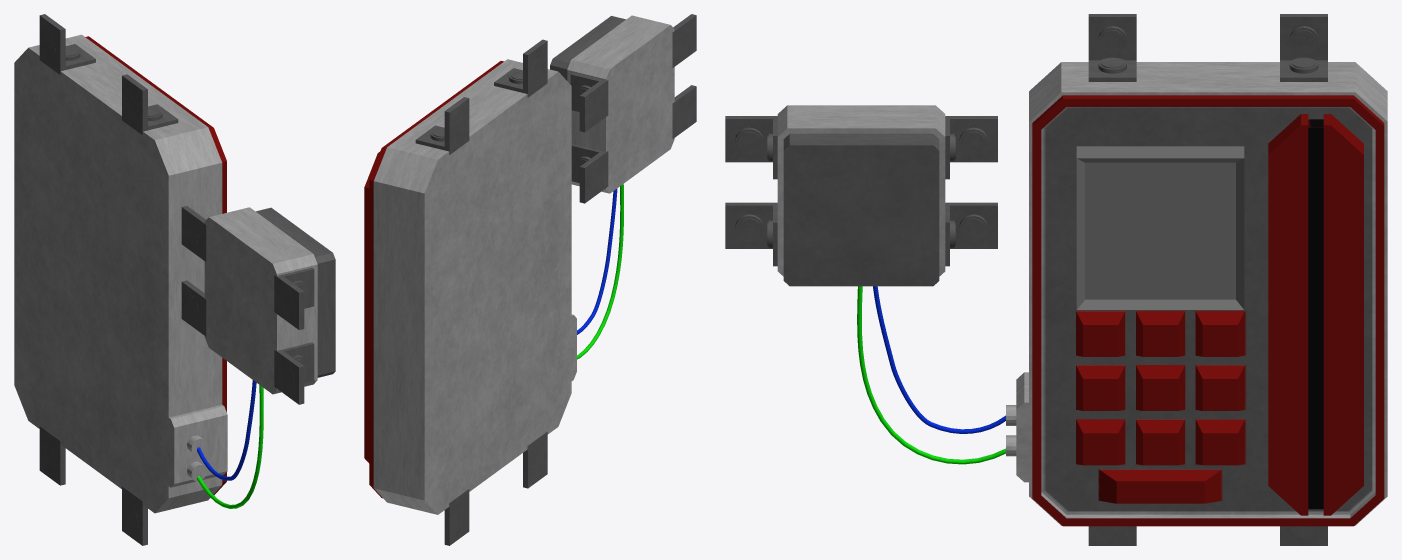
Rendered from cardreader.fbx.
The picture shows the model from 3 angles, left to right: view 1: azimuth 30°, elevation 25°; view 2: azimuth 150°, elevation 25°; view 3: azimuth 270°, elevation 25°; orthographic projection. The views are drawn at different scales.
Visible parts, largest first — view 1: cardreader; view 2: cardreader; view 3: cardreader.
Part boxes in pixels (x1=…): cardreader: x1=14, y1=14, x2=335, y2=545; cardreader: x1=364, y1=14, x2=696, y2=545; cardreader: x1=725, y1=14, x2=1387, y2=545.
Size of the model in its own units: 84.2 by 488 by 554.
Materials: 1 (1 with a texture image).
